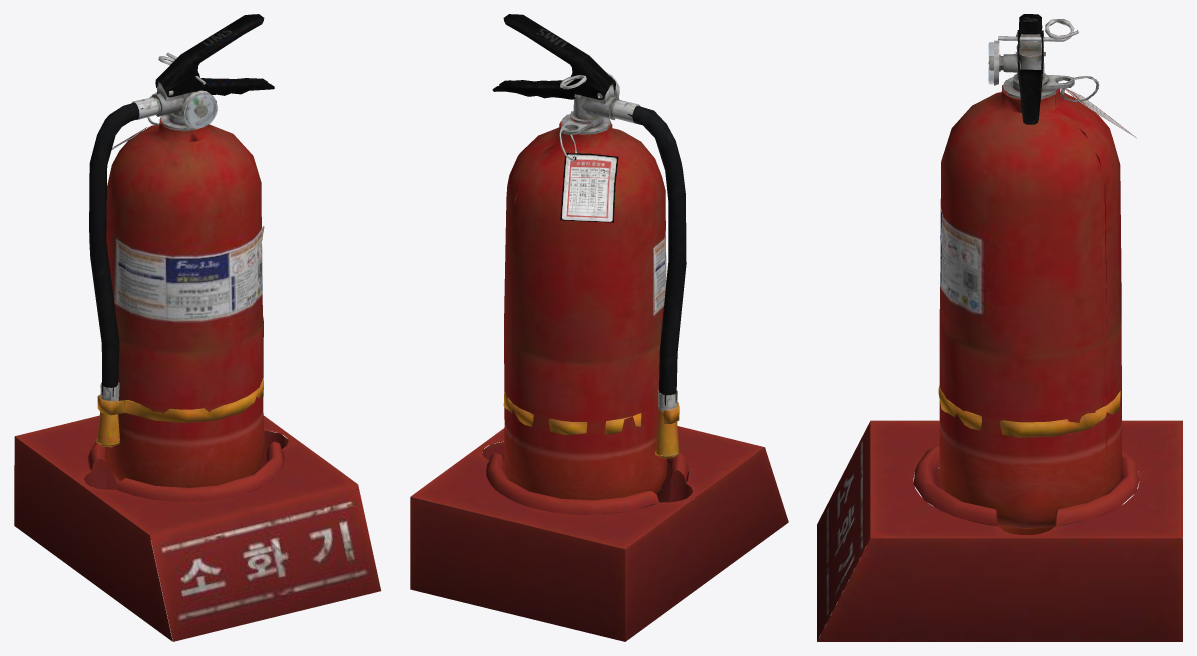
File: extinguisher.glb
The picture shows the model from 3 angles, left to right: view 1: azimuth 30°, elevation 25°; view 2: azimuth 150°, elevation 25°; view 3: azimuth 270°, elevation 25°; orthographic projection. The views are drawn at different scales.
Visible parts, largest first — view 1: extinguisher; view 2: extinguisher; view 3: extinguisher.
Boxes of the visible parts, x1,y1,x2,y2 form: extinguisher: [14, 14, 381, 641]; extinguisher: [410, 14, 788, 641]; extinguisher: [817, 14, 1182, 641].
Size of the model in its own units: 0.2795 by 0.6588 by 0.3674.
3 materials, 3 textured.
